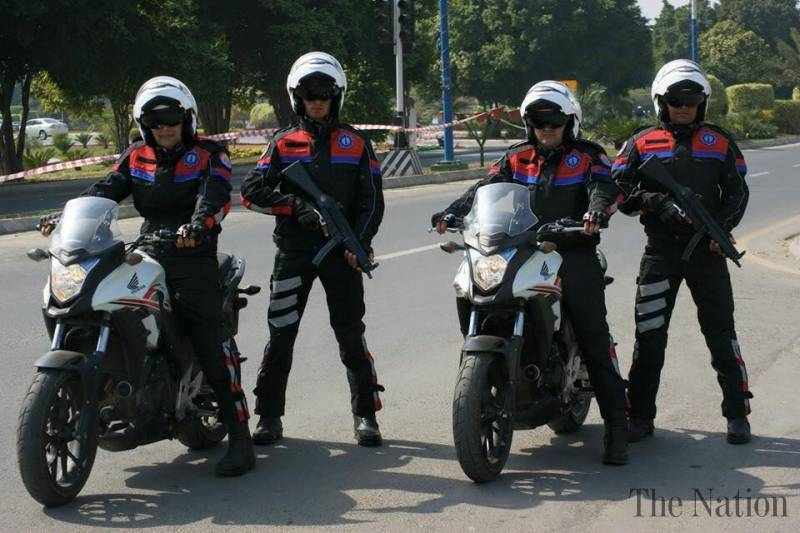helmet: (132, 78, 199, 142), (279, 49, 347, 103), (516, 79, 581, 135), (651, 60, 712, 115)
